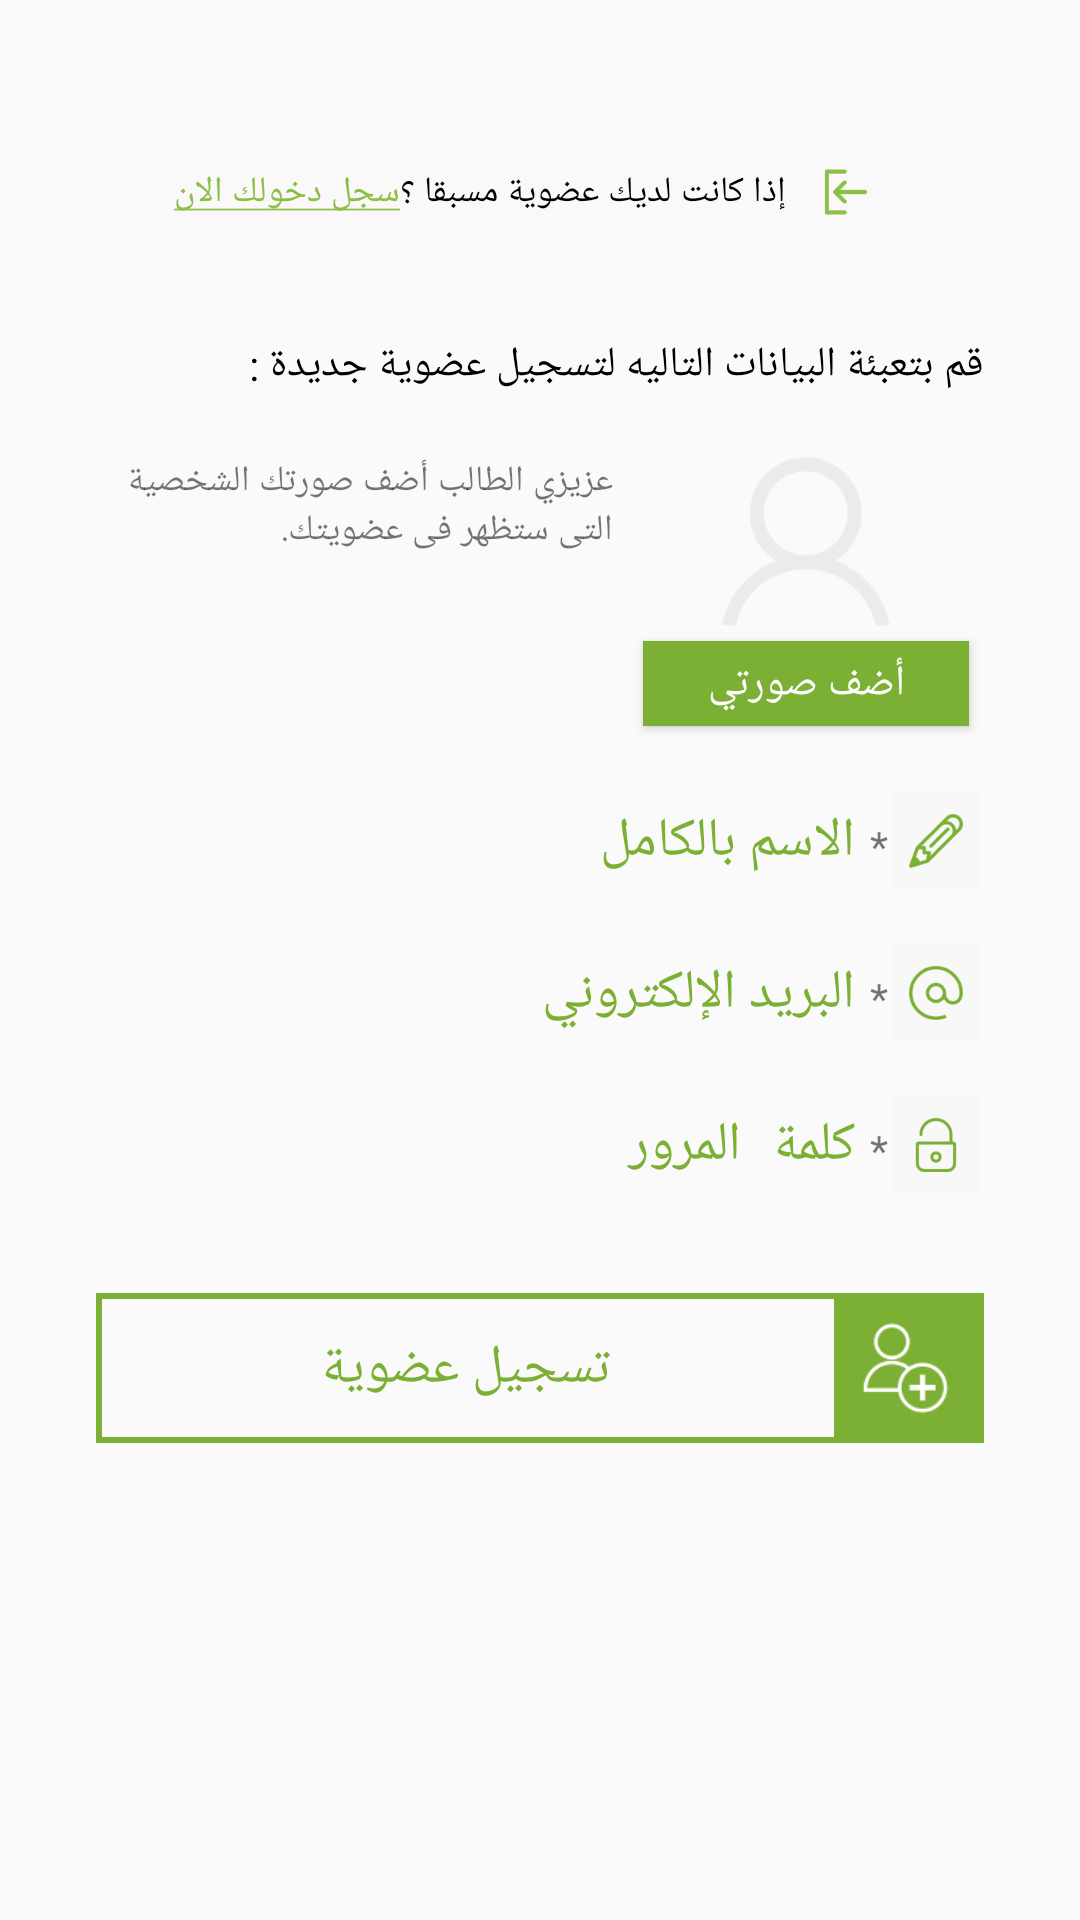

Icons on this 1080 × 1920 Android screen, each with the point to tap as (x,y):
log in: (846,192)
mail: (936,993)
pass: (936,1145)
reg: (905,1368)
